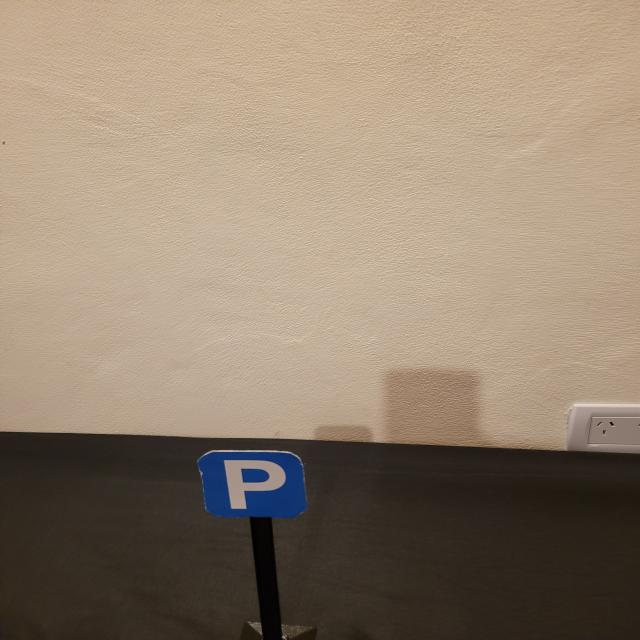parking: (196, 450, 308, 518)
